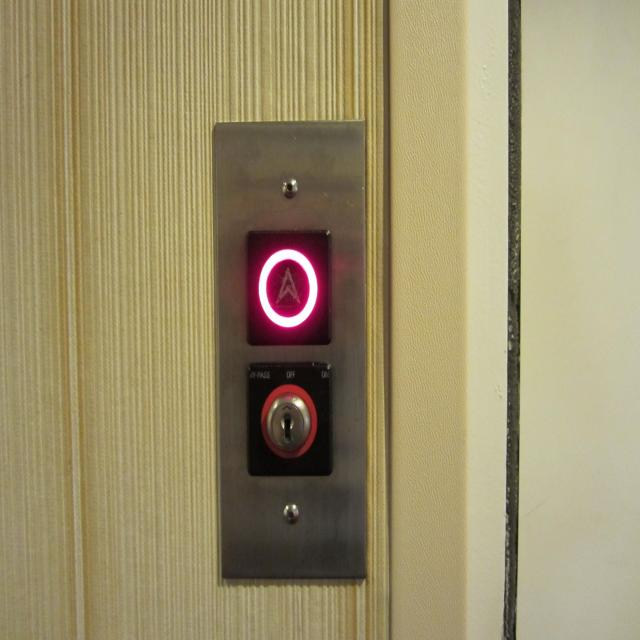bt_keyhole: (246, 363, 332, 476)
up: (245, 234, 328, 344)
